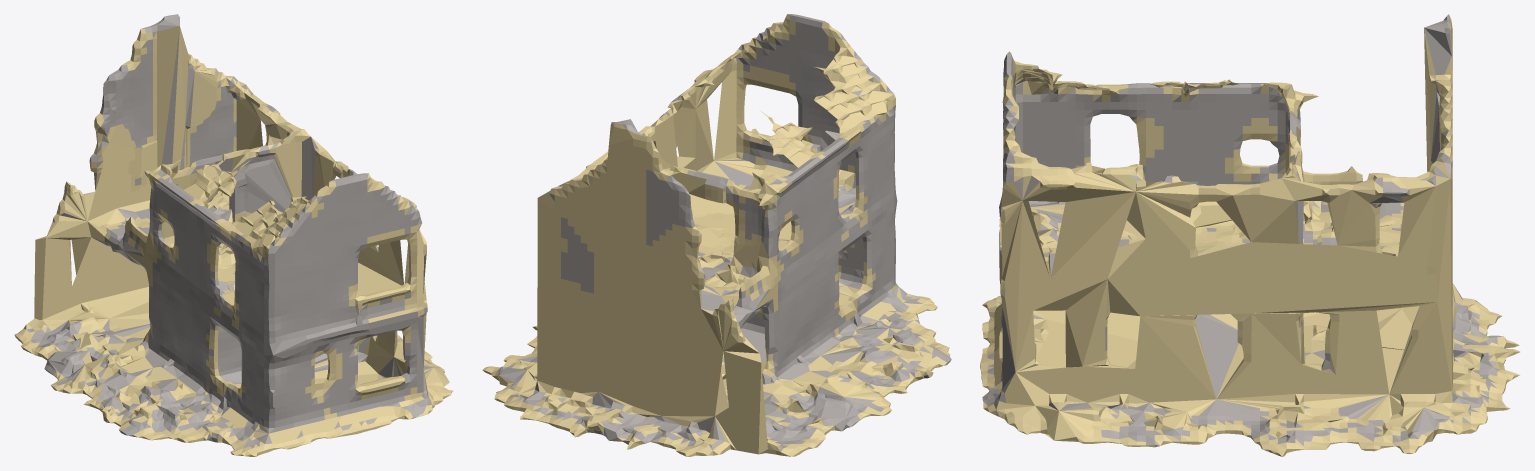
Rendered from ruin_house.glb.
The picture shows the model from 3 angles, left to right: view 1: azimuth 30°, elevation 25°; view 2: azimuth 150°, elevation 25°; view 3: azimuth 270°, elevation 25°; orthographic projection. The views are drawn at different scales.
Visible parts, largest first — view 1: Mesh_0.010; view 2: Mesh_0.010; view 3: Mesh_0.010.
Boxes of the visible parts, <box> form: Mesh_0.010: <box>14,14,453,456</box>; Mesh_0.010: <box>482,14,951,456</box>; Mesh_0.010: <box>980,14,1520,456</box>.
Bounding box in the file's own units: 0.8829 × 0.7086 × 1.
